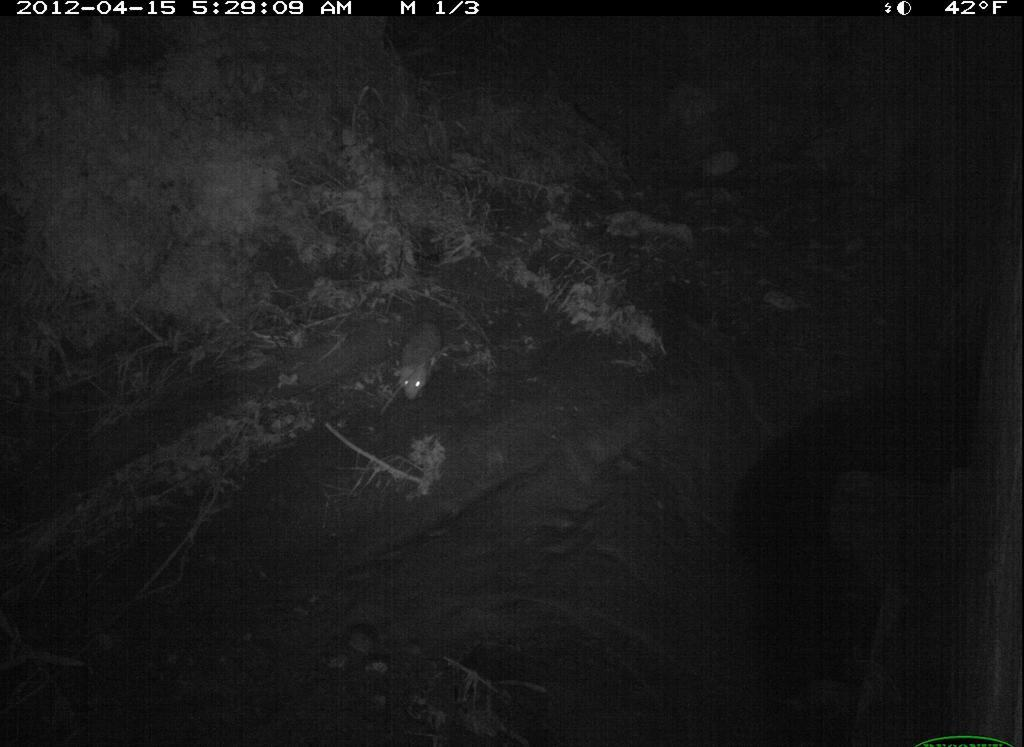opossum: (386, 297, 455, 414)
